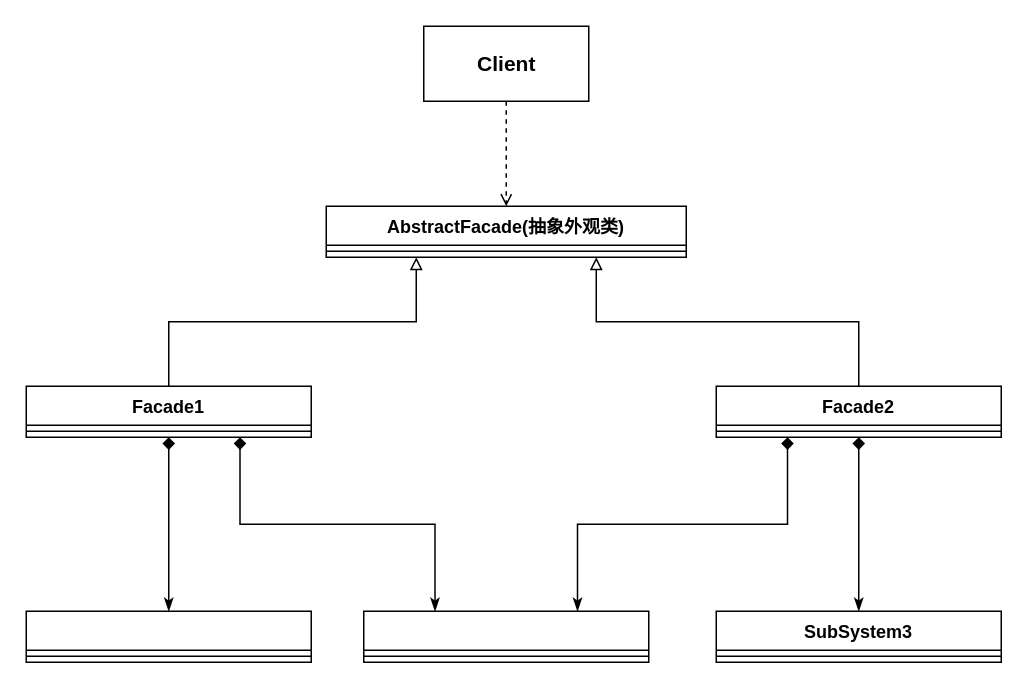
This 1028x689 diagram has some shape labels left out. The centre of each missing label's shape, as x and y in pixels:
SubSystem1: point 168,636
SubSystem2: point 505,636
